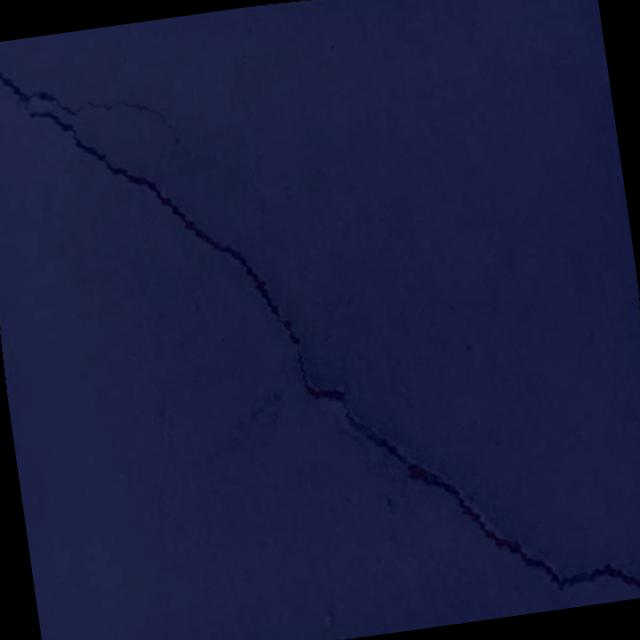crack: (285, 299, 640, 640), (0, 25, 311, 386)
